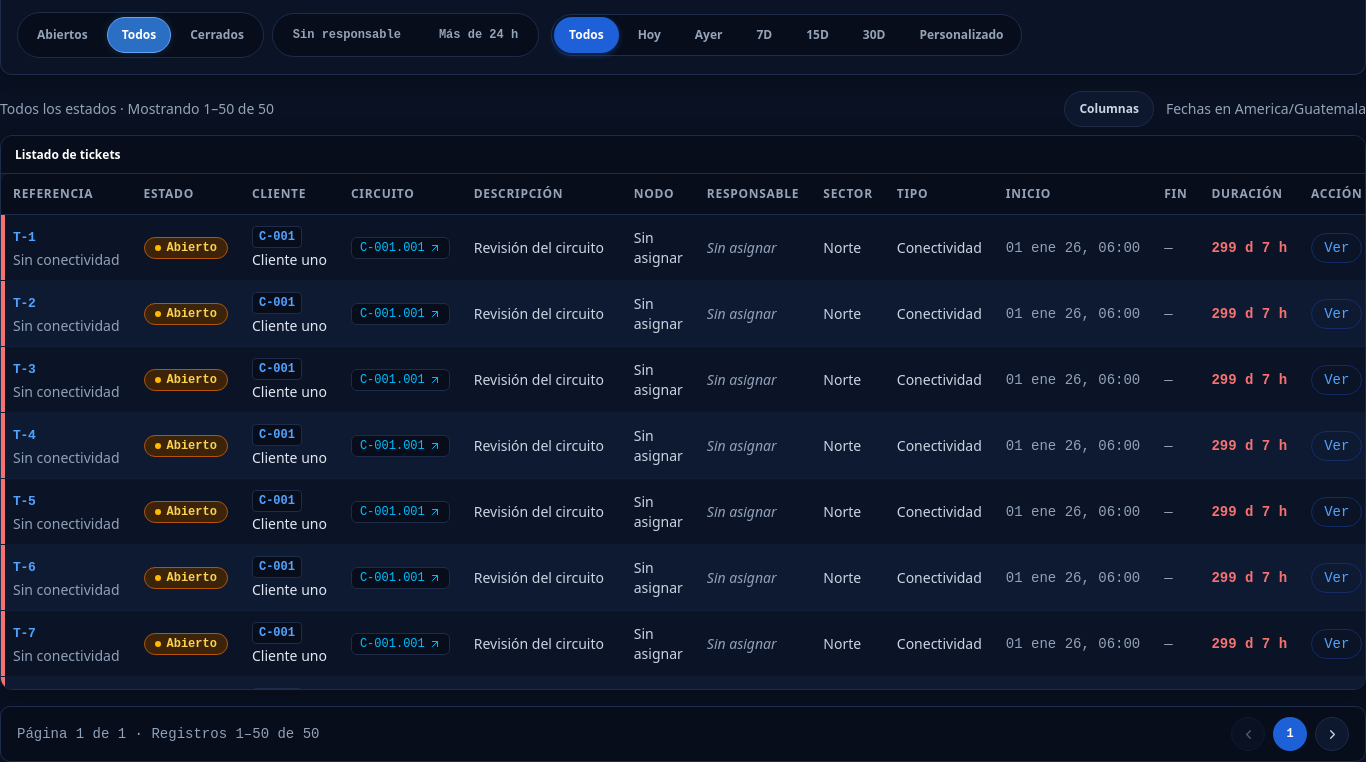
it: listado de tickets › avanza por offset y permite regresar de una página vacía
(page scrolled)
Expected: the link "T-1" is shown, [13, 230, 35, 245]
Click the button named "Siguiente".
click(1332, 734)  # box [1315, 717, 1349, 751]
(page scrolled)
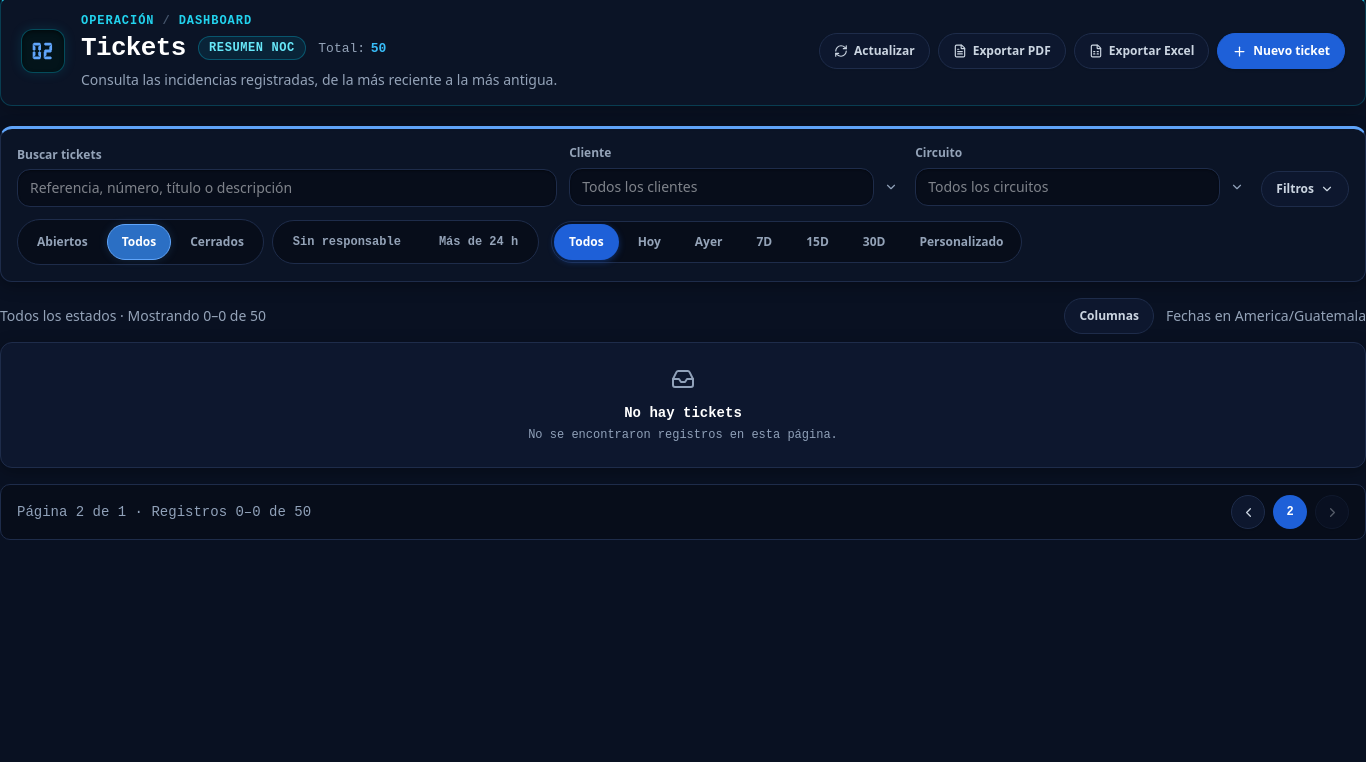
Now the heading "No hay tickets" is shown, box [624, 405, 742, 421]
Click the button named "Anterior".
click(1248, 512)  # box [1231, 495, 1265, 529]
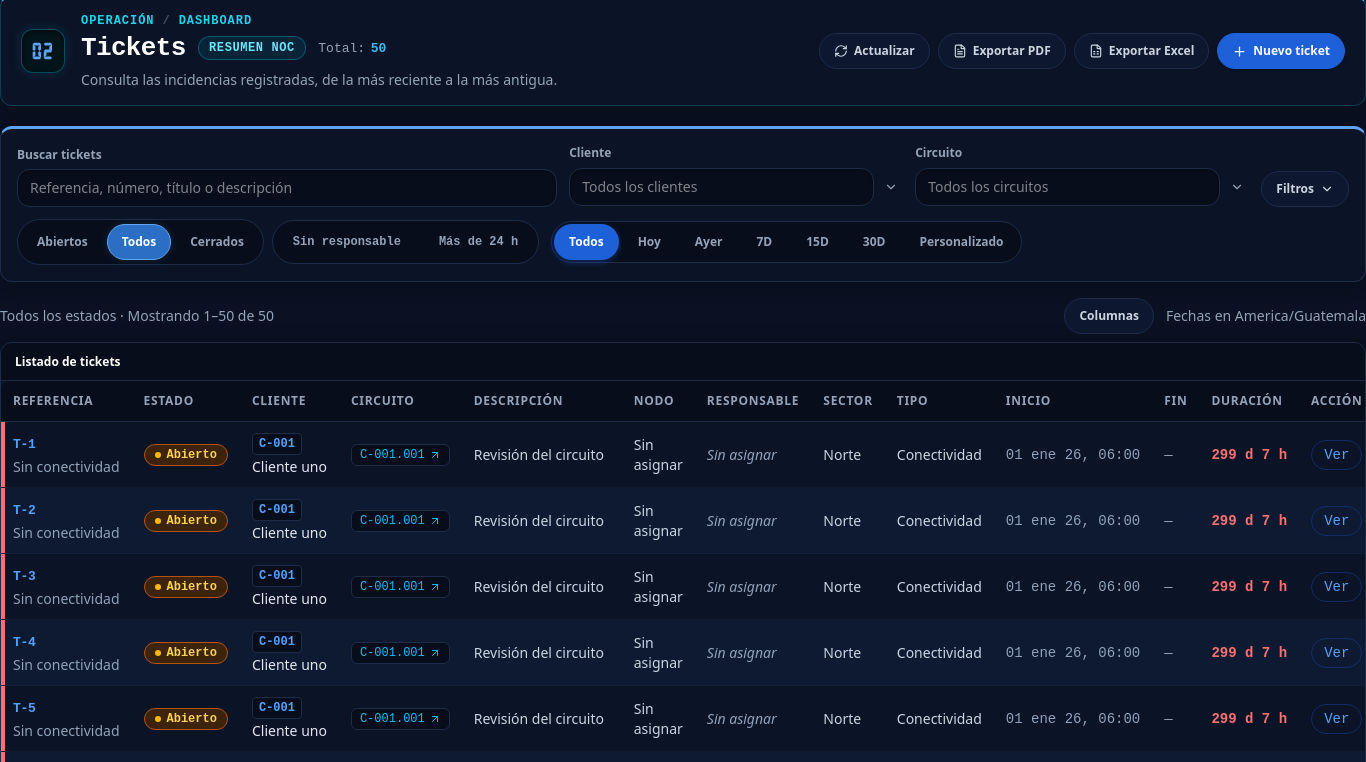
Now the link "T-1" is shown, box [13, 437, 35, 452]
